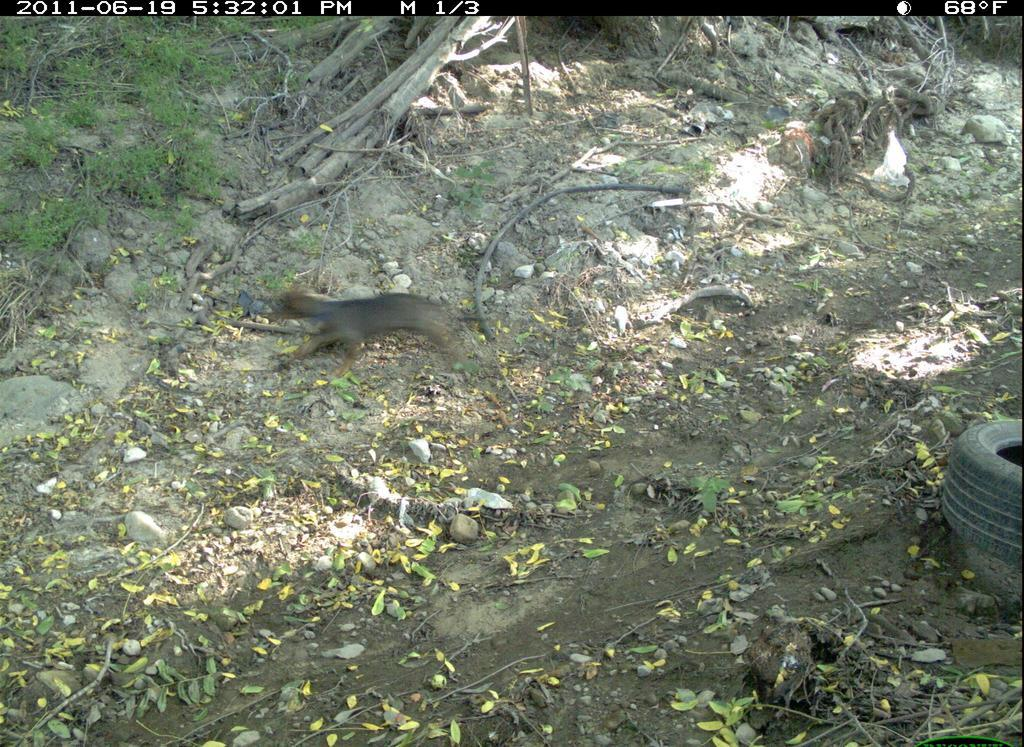dog: (271, 272, 481, 379)
